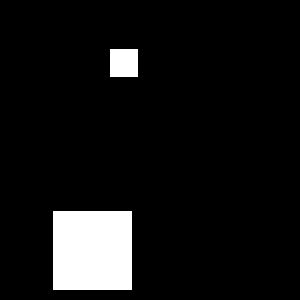circle: (53, 211, 132, 290), (110, 49, 138, 77)
